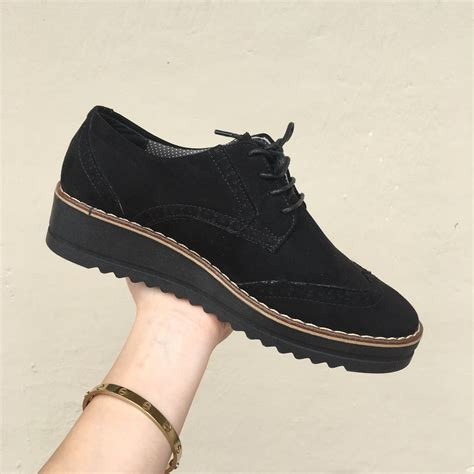gamuza: (56, 105, 423, 343)
